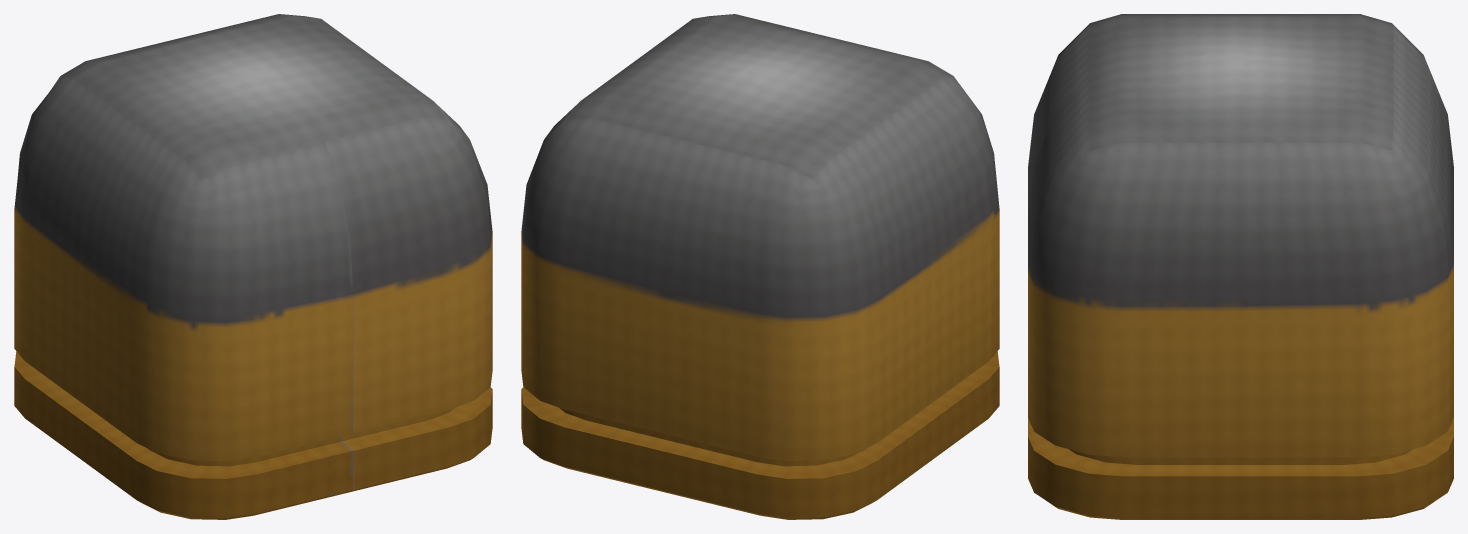
File: Stout bullet.fbx
3 renders of one model, left to right at view 1: azimuth 30°, elevation 25°; view 2: azimuth 150°, elevation 25°; view 3: azimuth 270°, elevation 25°, orthographic. The views are drawn at different scales.
Parts seen in each view (by area): view 1: stout bullet; view 2: stout bullet; view 3: stout bullet.
Boxes of the visible parts, bbox=[...] form: stout bullet: bbox=[14, 14, 492, 519]; stout bullet: bbox=[521, 14, 999, 519]; stout bullet: bbox=[1028, 14, 1453, 519].
Size of the model in its own units: 100 by 98.59 by 100.
Materials: 1 (1 with a texture image).
